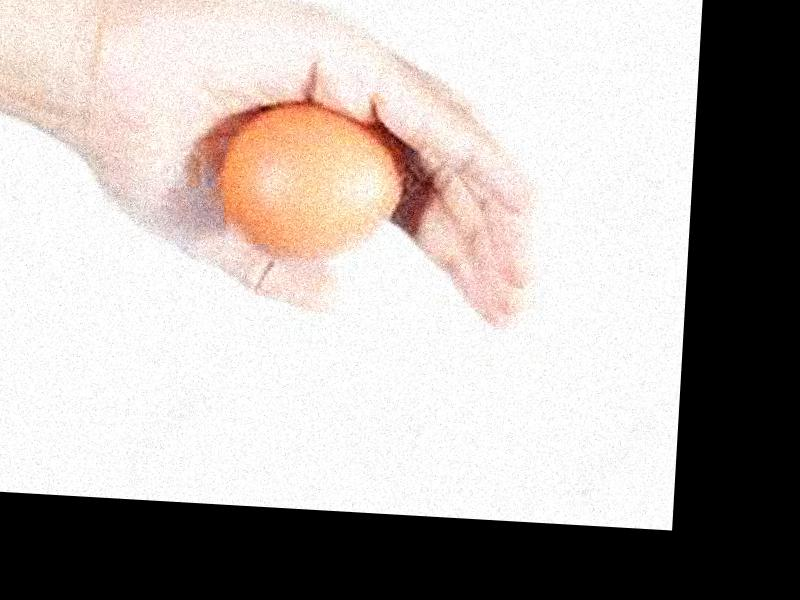Eggs: (218, 103, 404, 264)
